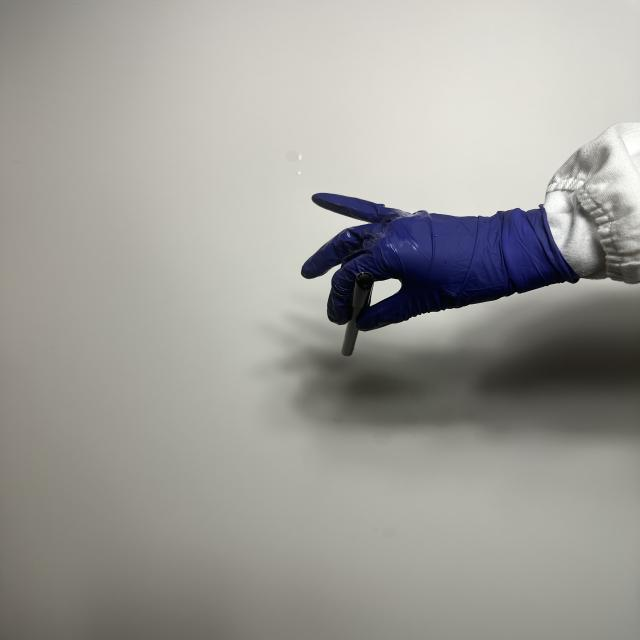gloves_contaminated: (302, 193, 579, 330)
